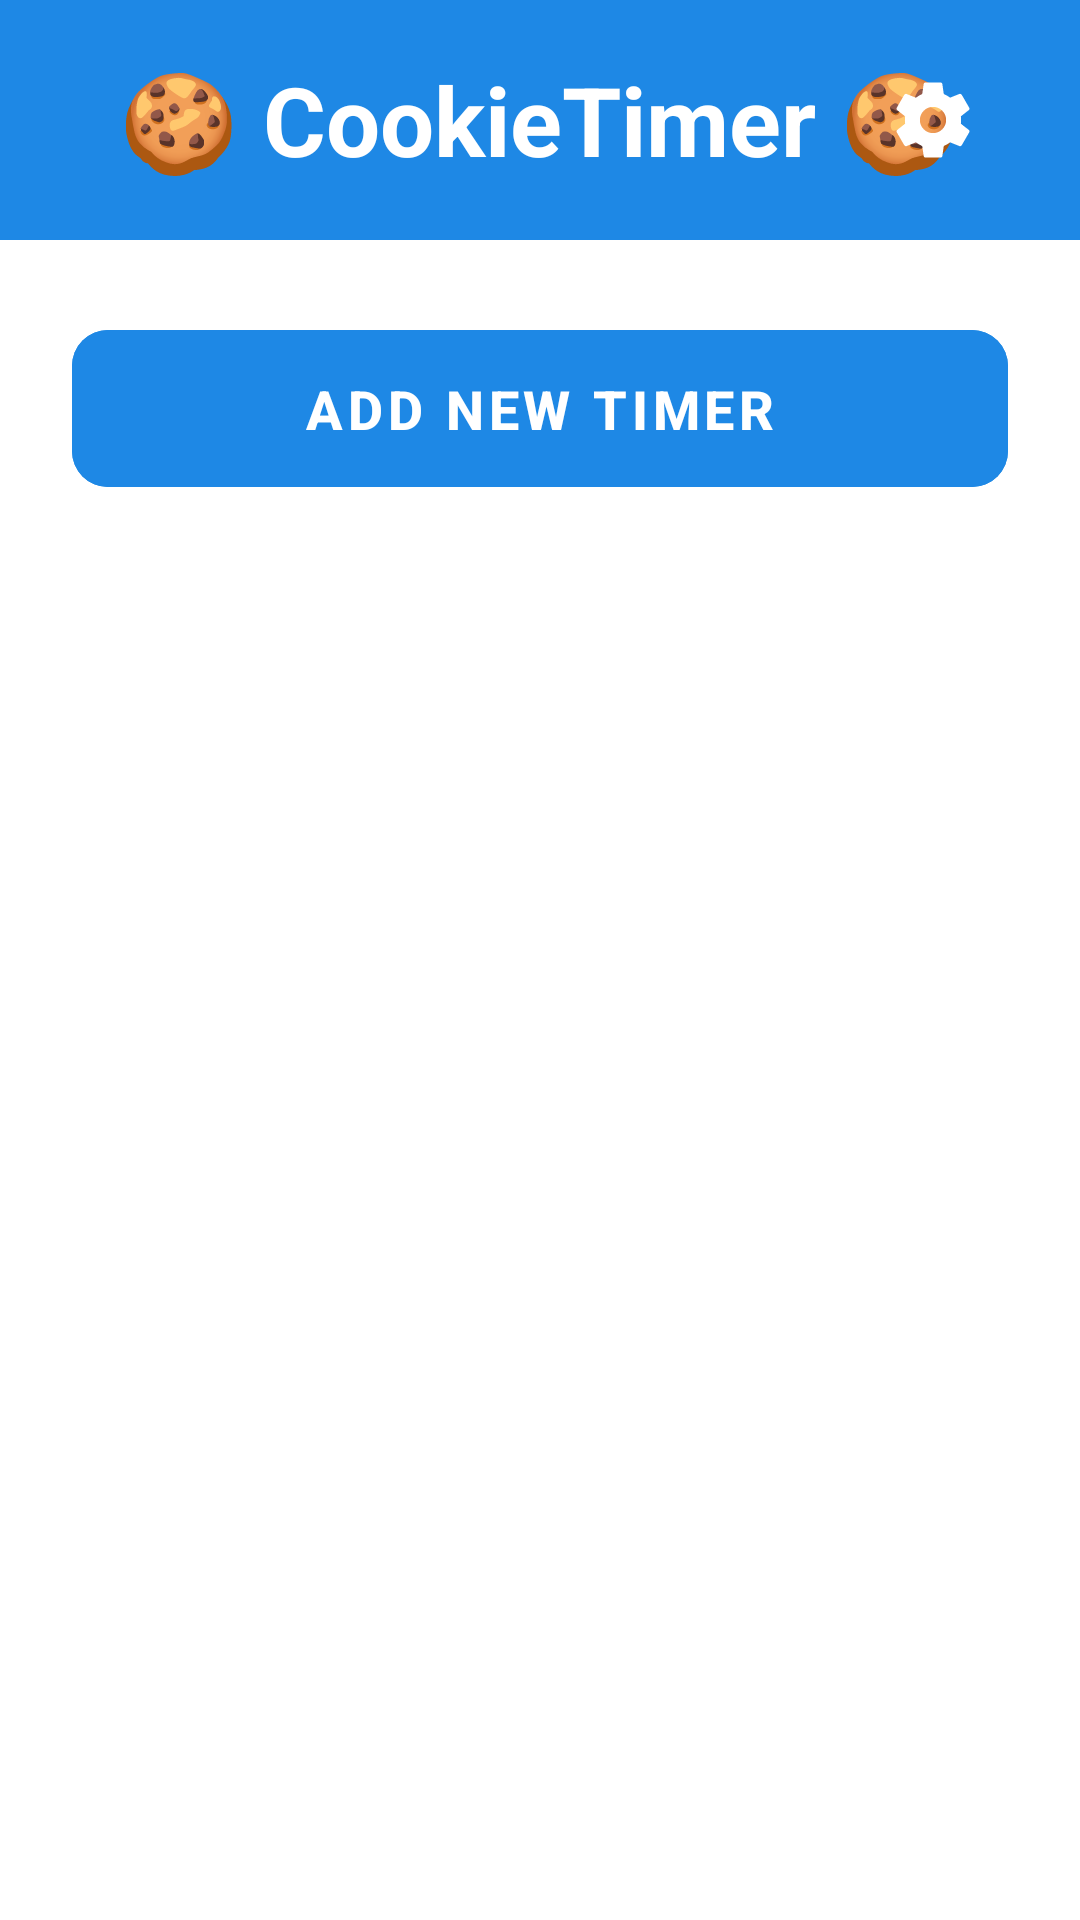

Screen size 1080px×1920px. Icon name, then its box in pixels as BBox(x1, y1, x2, y2):
Open settings: BBox(888, 73, 970, 176)
